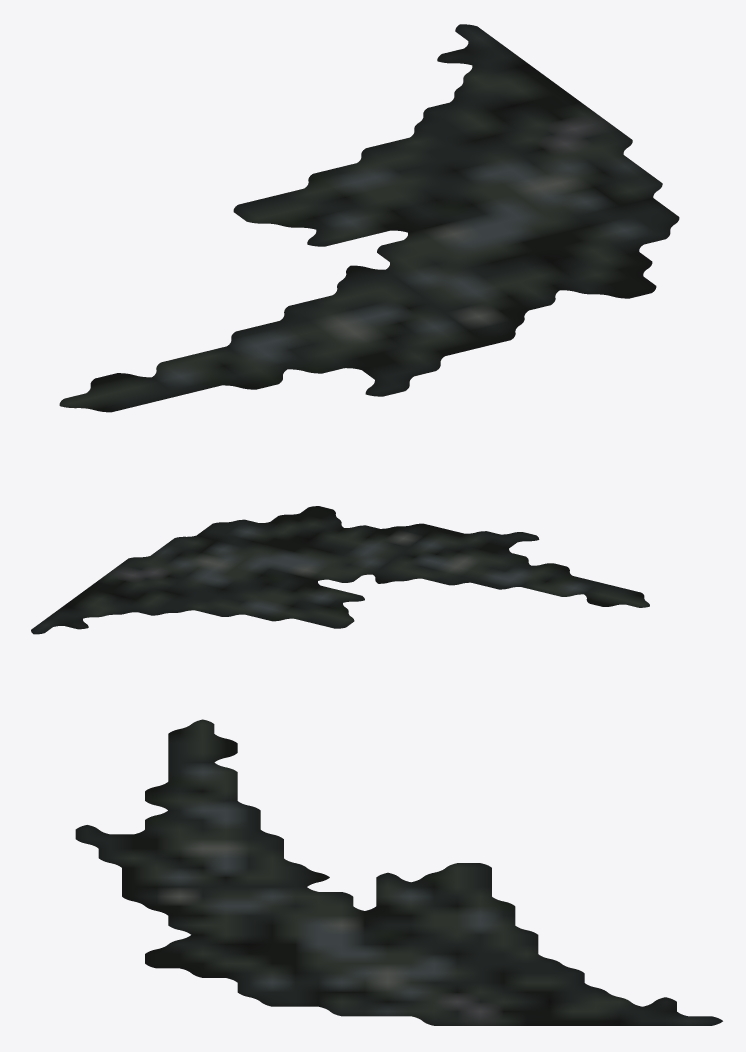
File: SM_EC_Tree_Part_Card_07.fbx
3 views of the same model, one above another, from view 1: azimuth 30°, elevation 25°; view 2: azimuth 150°, elevation 25°; view 3: azimuth 270°, elevation 25° (orthographic). The views are drawn at different scales.
Visible parts, largest first — view 1: SM_EC_Tree_Part_Card_07; view 2: SM_EC_Tree_Part_Card_07; view 3: SM_EC_Tree_Part_Card_07.
Part boxes in pixels (x1,y1,x2,y2): SM_EC_Tree_Part_Card_07: [59, 24, 679, 412]; SM_EC_Tree_Part_Card_07: [31, 506, 649, 634]; SM_EC_Tree_Part_Card_07: [75, 719, 722, 1025].
Size of the model in its own units: 0.5705 by 0.4849 by 2.7e-10.
